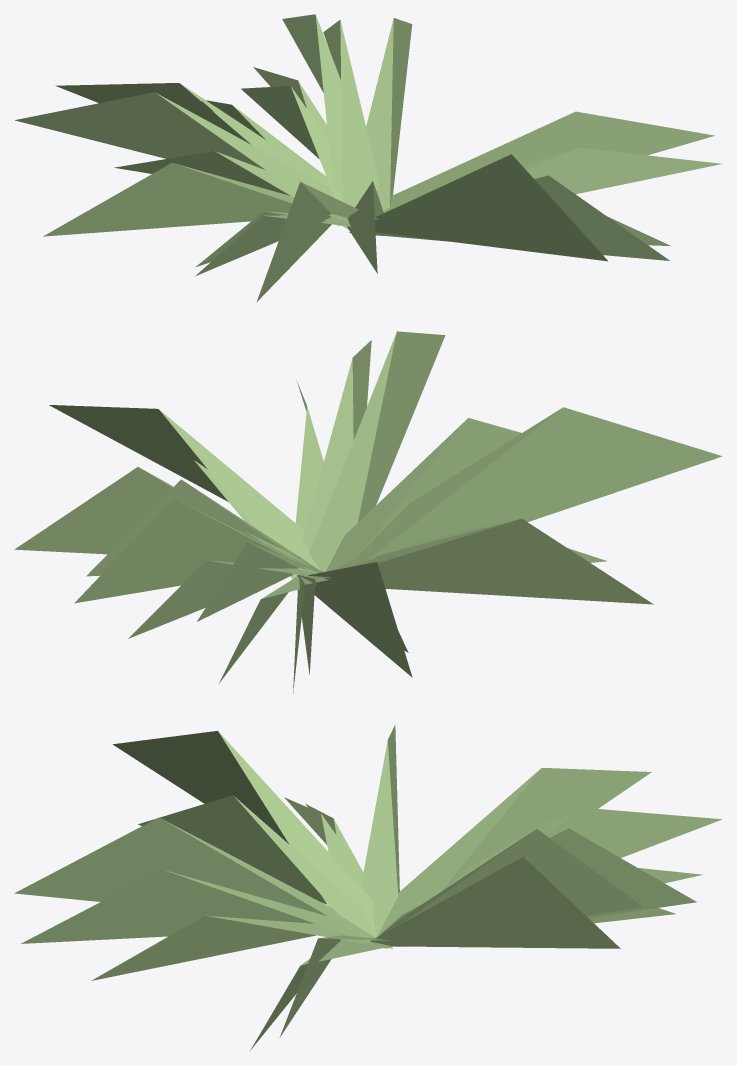
The model's file is golem_grass_clump_01.glb.
3 views of the same model, one above another, from view 1: azimuth 30°, elevation 25°; view 2: azimuth 150°, elevation 25°; view 3: azimuth 270°, elevation 25° (orthographic). The views are drawn at different scales.
Visible parts, largest first — view 1: golem_grass_clump; view 2: golem_grass_clump; view 3: golem_grass_clump.
Boxes of the visible parts, x1,y1,x2,y2 form: golem_grass_clump: [15, 14, 721, 302]; golem_grass_clump: [14, 331, 722, 693]; golem_grass_clump: [14, 725, 722, 1050].
Size of the model in its own units: 0.7321 by 0.156 by 0.7147.
